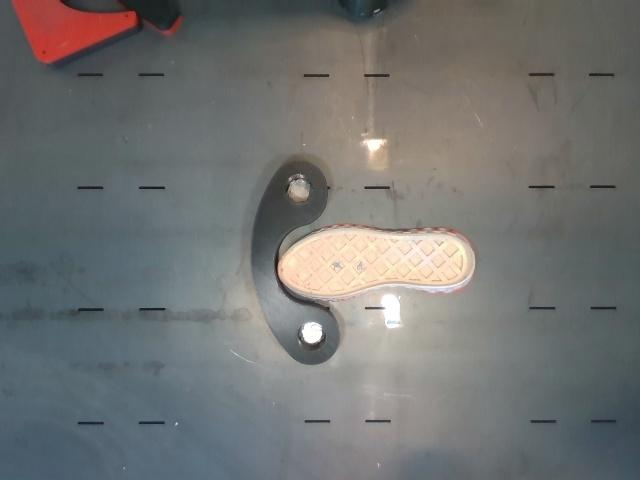shoes: (279, 230, 474, 297)
